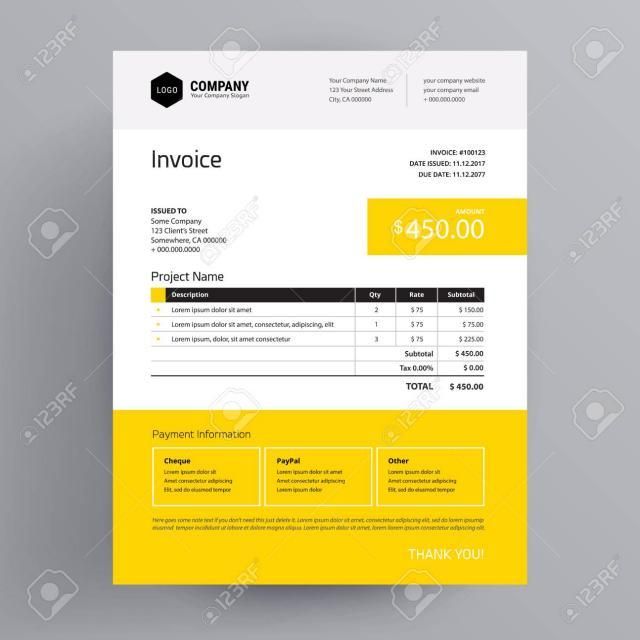customer_address: (147, 226, 231, 245)
customer_name: (150, 217, 210, 225)
due_date: (451, 170, 487, 179)
invoice_date: (452, 160, 494, 168)
invoice_number: (459, 146, 487, 158)
invoice_subtotal: (453, 349, 486, 359)
invoice_total: (444, 379, 489, 396), (457, 362, 486, 373)
item_description: (169, 303, 337, 350)
item_quantity: (363, 306, 386, 344)
item_total_price: (442, 304, 490, 344)
item_unit_price: (404, 304, 428, 344)
supplier_address: (328, 86, 398, 105)
supplier_name: (326, 76, 392, 85)
tax_rate: (412, 364, 436, 374)
